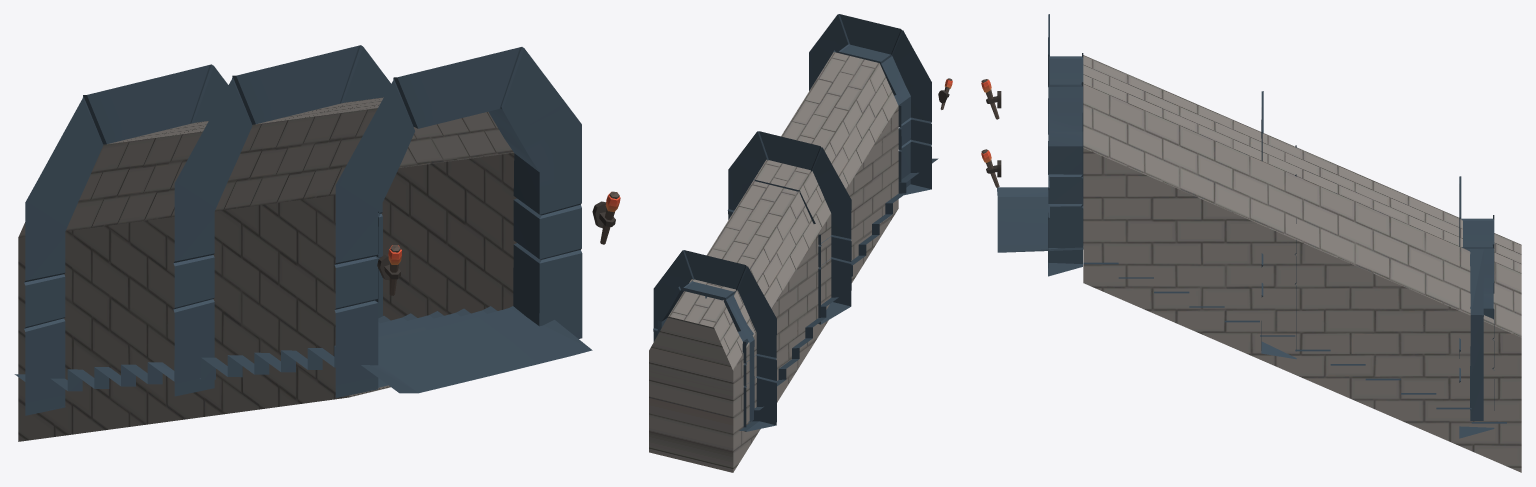
Rendered from cryptStairs.fbx.
3 views of the same model, side by side, from view 1: azimuth 30°, elevation 25°; view 2: azimuth 150°, elevation 25°; view 3: azimuth 270°, elevation 25° (orthographic). The views are drawn at different scales.
Parts seen in each view (by area): view 1: cryptStairs; view 2: cryptStairs; view 3: cryptStairs.
Part boxes in pixels (x1,y1,x2,y2): cryptStairs: (14, 45, 620, 441); cryptStairs: (649, 14, 952, 472); cryptStairs: (981, 14, 1521, 472).
Size of the model in its own units: 4.59 by 11.06 by 13.17.
3 materials, 2 textured.
